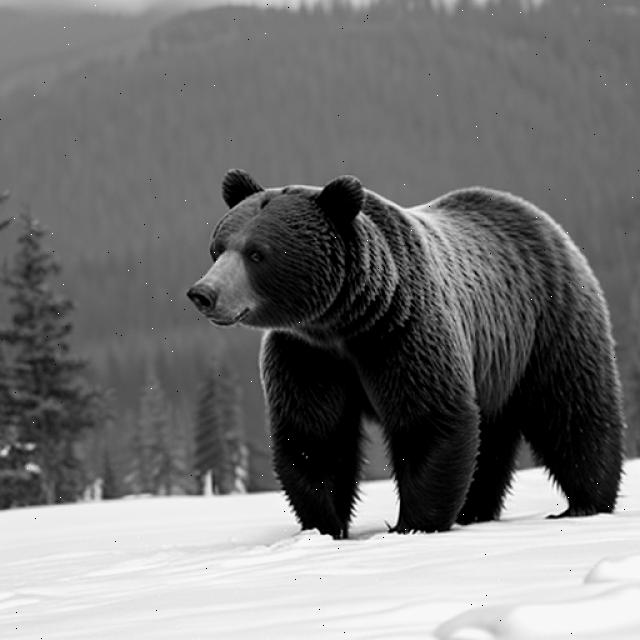bear: (174, 174, 446, 349)
